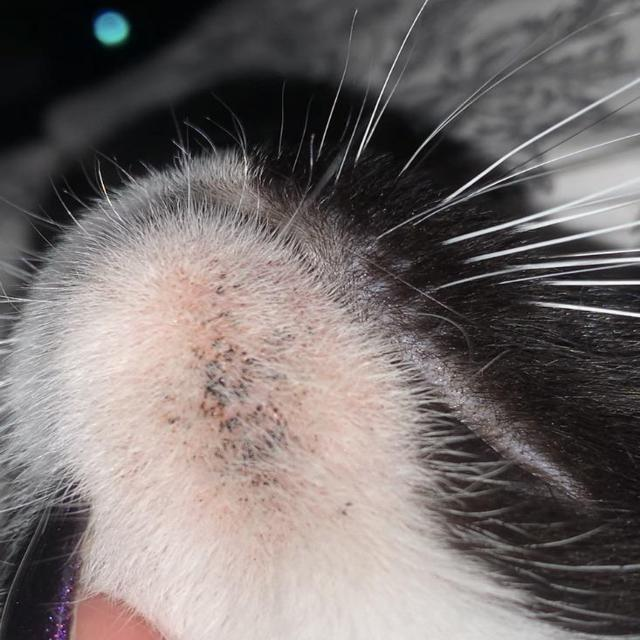acne: (157, 250, 376, 540)
